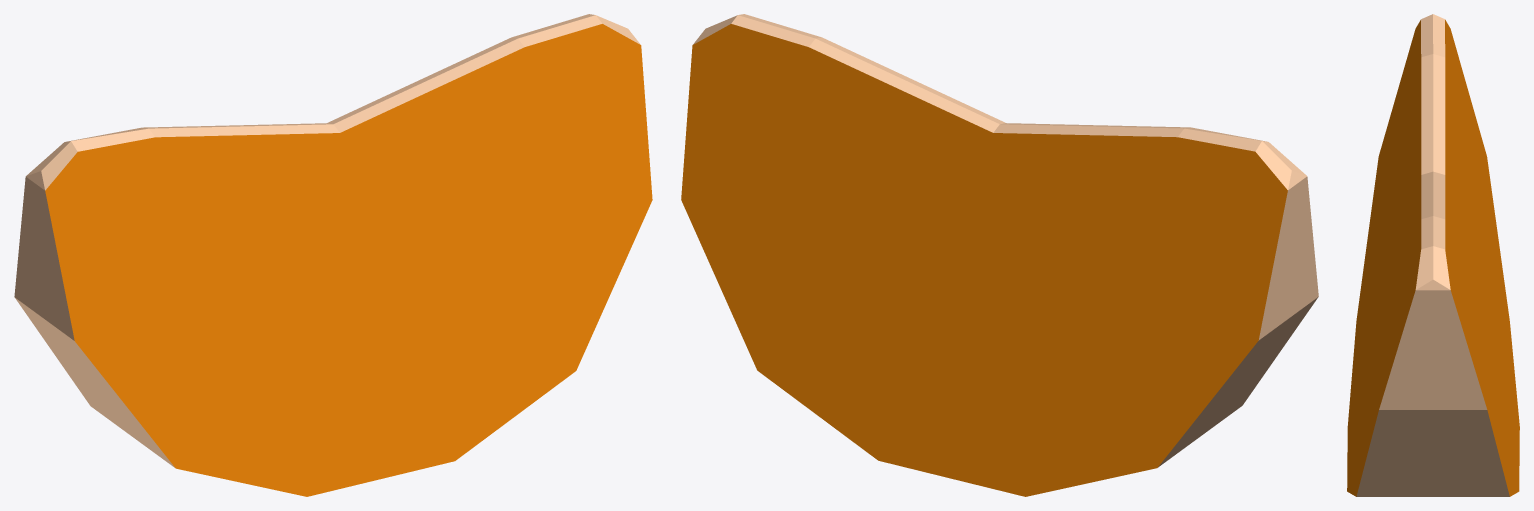
Rendered from clementine03.gltf.
3 views of the same model, side by side, from view 1: azimuth 30°, elevation 25°; view 2: azimuth 150°, elevation 25°; view 3: azimuth 270°, elevation 25° (orthographic). The views are drawn at different scales.
Parts seen in each view (by area): view 1: Cylinder; view 2: Cylinder; view 3: Cylinder.
Part boxes in pixels (left/top/right/bottom): Cylinder: left=14, top=14, right=652, bottom=496; Cylinder: left=681, top=14, right=1318, bottom=496; Cylinder: left=1347, top=14, right=1519, bottom=496.
Bounding box in the file's own units: 0.0404 × 0.0238 × 0.0113.
Materials: 1 (1 with a texture image).
